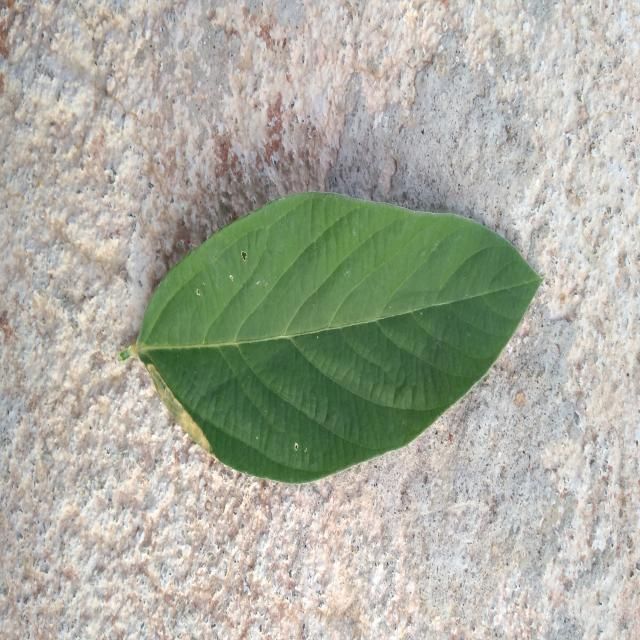pea: (121, 193, 542, 482)
